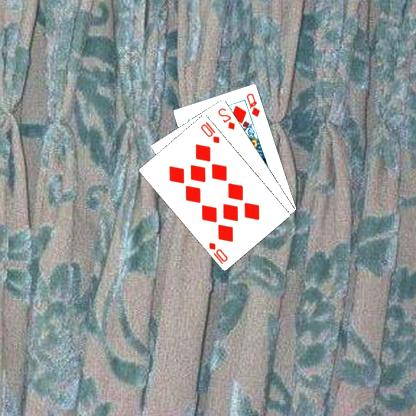10D: (208, 240, 231, 266), (199, 119, 222, 144)
2D: (217, 104, 238, 130)
QD: (246, 90, 263, 118)
